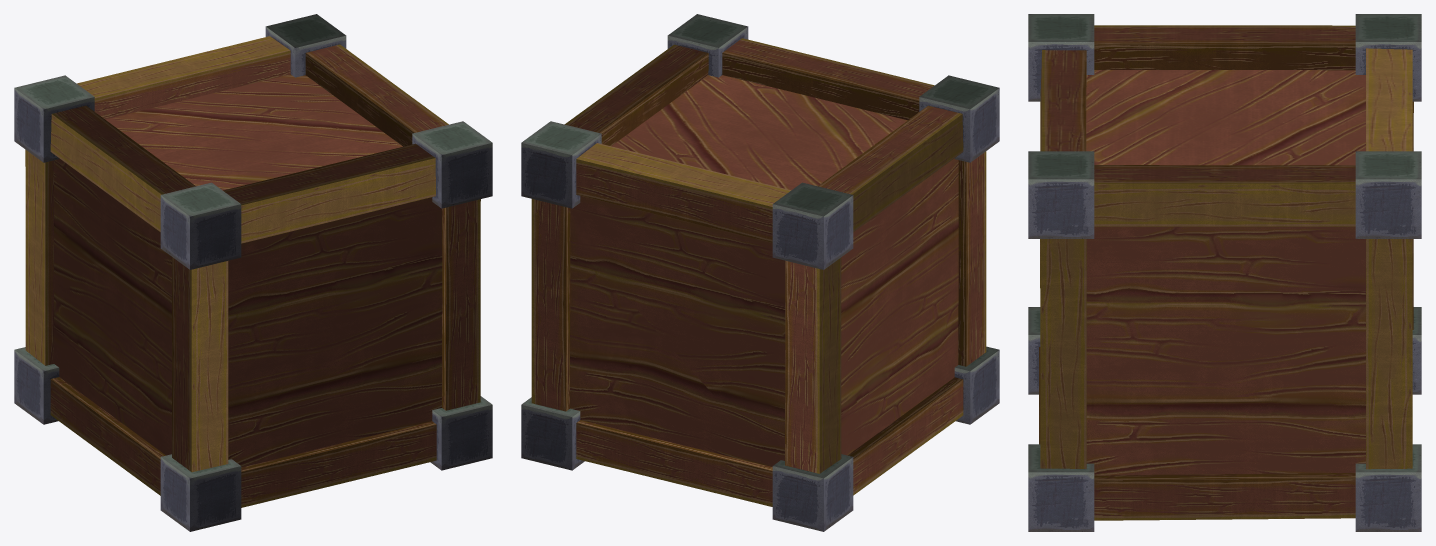
The model's file is Box_Destructed.FBX.
3 views of the same model, side by side, from view 1: azimuth 30°, elevation 25°; view 2: azimuth 150°, elevation 25°; view 3: azimuth 270°, elevation 25° (orthographic). The views are drawn at different scales.
Parts seen in each view (by area): view 1: pCube121, pCube123, pCube116, pCube112; view 2: pCube121, pCube110, pCube116, Object011, pCube123, pCube112, pCube113; view 3: pCube116, pCube121, pCube109, pCube123, Object009, Object010, pCube112.
Boxes of the visible parts, x1,y1,x2,y2 form: pCube121: [14, 75, 492, 531]; pCube123: [105, 74, 402, 190]; pCube116: [265, 14, 448, 146]; pCube112: [77, 36, 290, 119]; pCube121: [667, 14, 999, 531]; pCube110: [570, 196, 785, 396]; pCube116: [521, 44, 708, 470]; Object011: [570, 294, 785, 466]; pCube123: [611, 75, 907, 190]; pCube112: [576, 143, 790, 242]; pCube113: [576, 420, 772, 506]; pCube116: [1094, 151, 1421, 531]; pCube121: [1028, 14, 1421, 531]; pCube109: [1086, 298, 1365, 408]; pCube123: [1086, 70, 1365, 165]; Object009: [1086, 226, 1365, 297]; Object010: [1086, 409, 1365, 475]; pCube112: [1366, 48, 1412, 151].
Bounding box in the file's own units: 1.27 × 1.26 × 1.28.
Materials: 1 (1 with a texture image).
